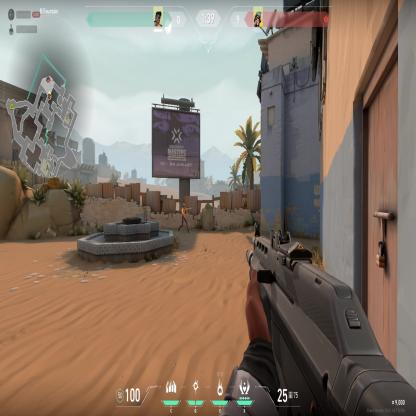enemy: (177, 202, 190, 234)
